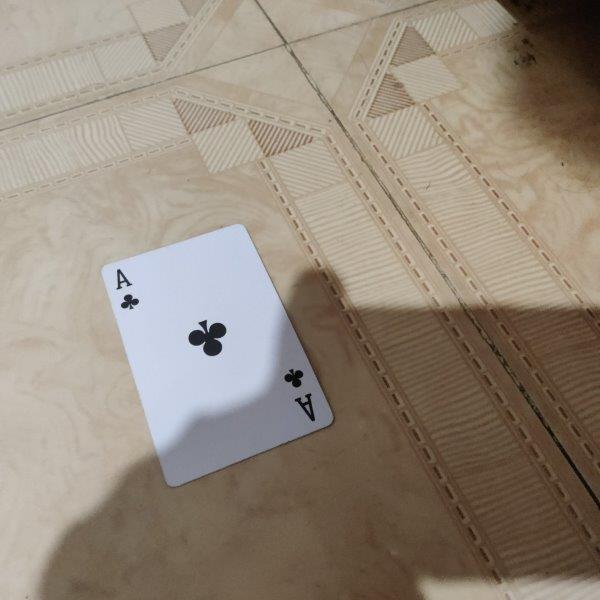Ace of Clubs: (100, 224, 337, 489)
